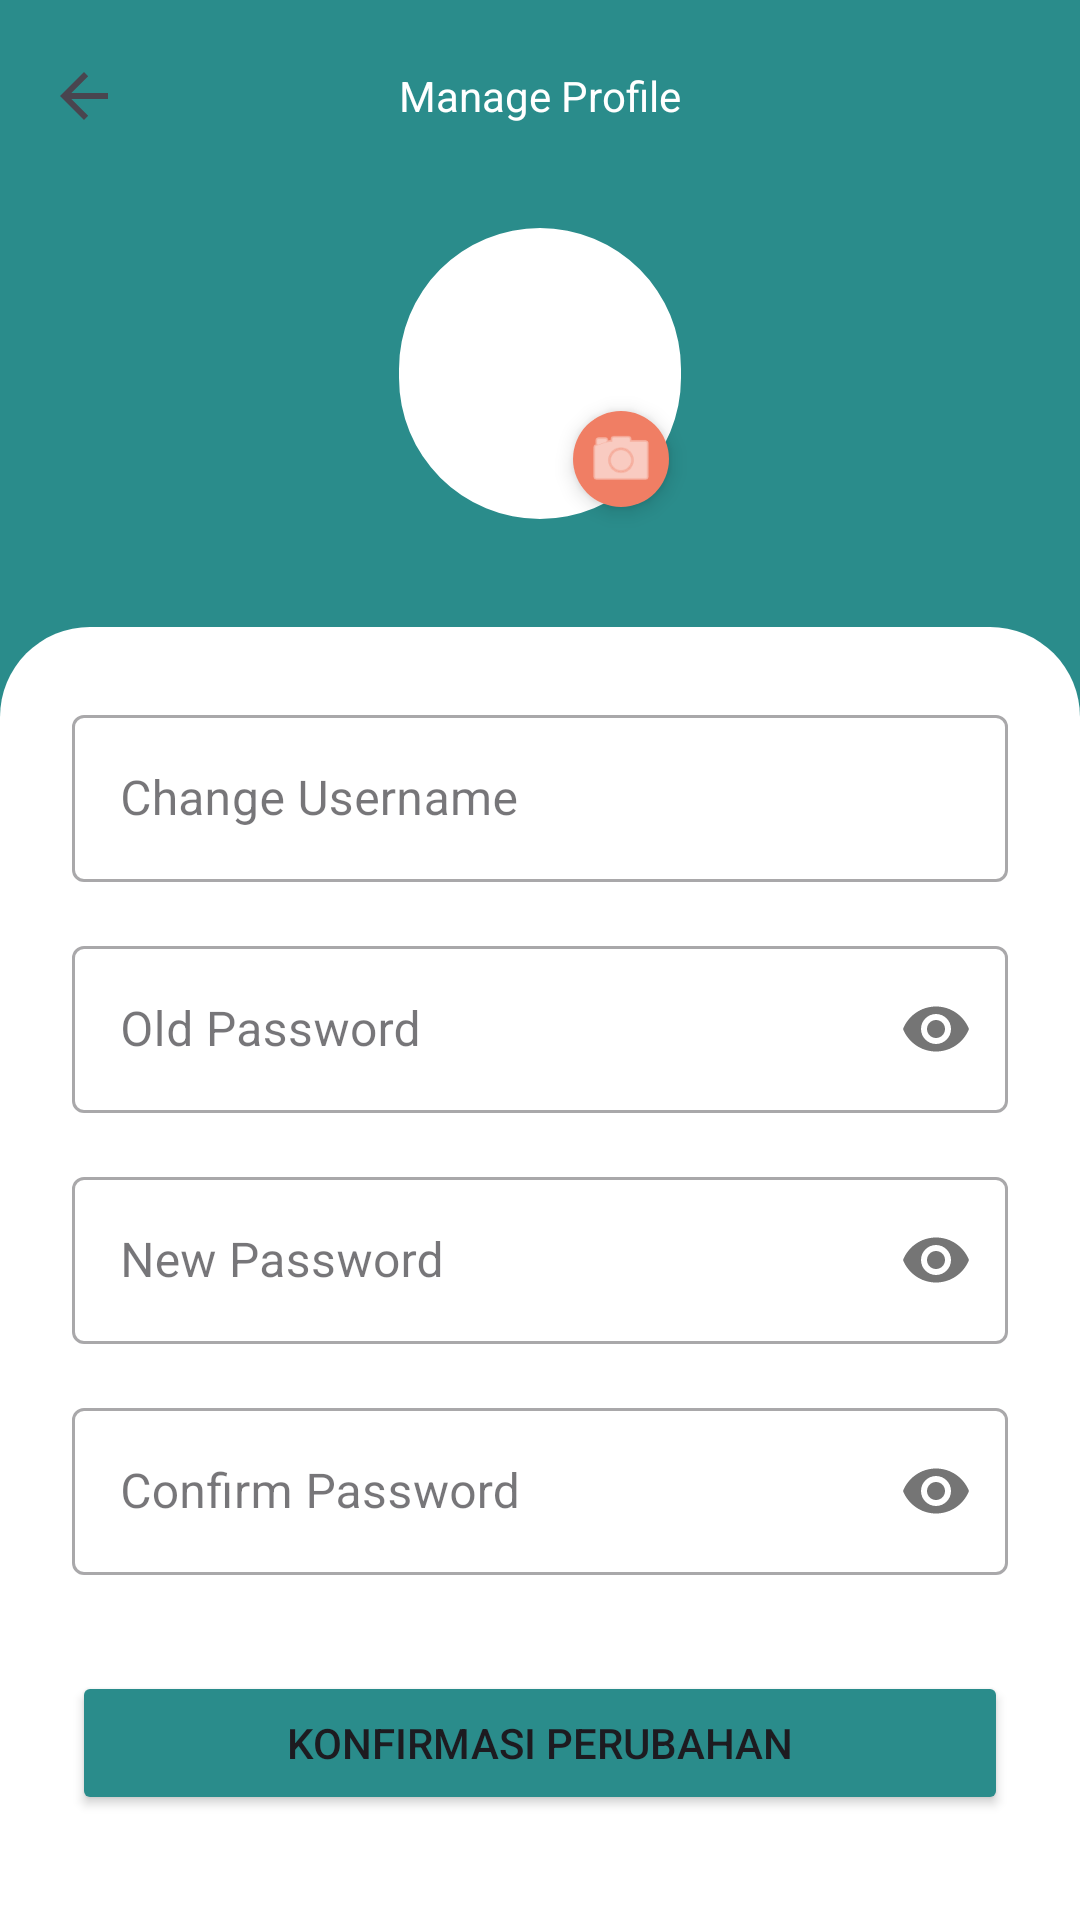

Screen size 1080px×1920px. Icon name, then its center in pixels as [x,y]:
Ubah foto profil: [621,459]
